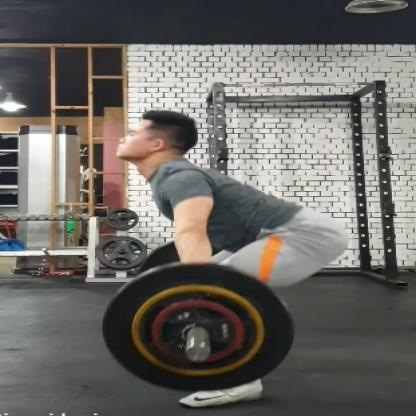Barbell: (183, 342, 215, 365)
